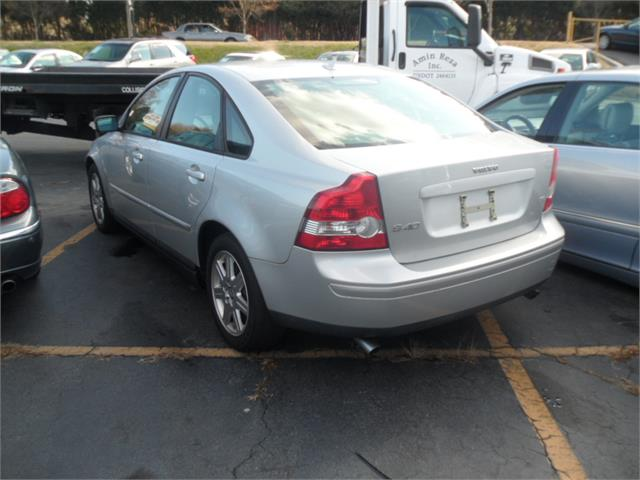car: (86, 62, 564, 345)
